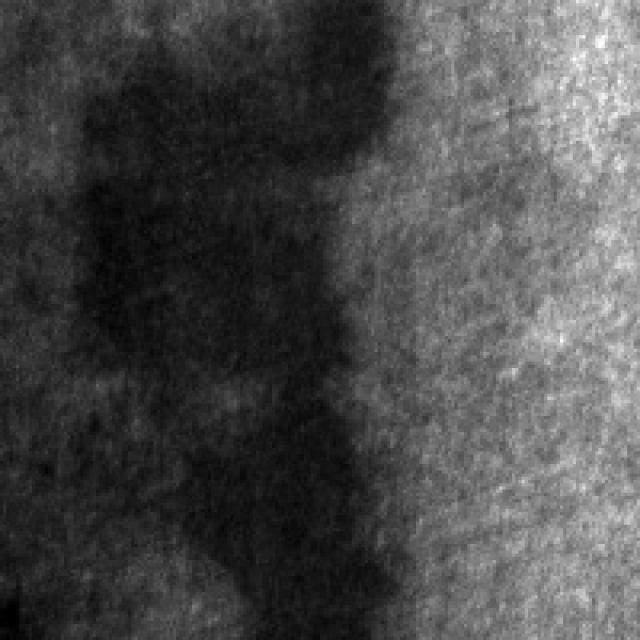patches: (90, 0, 387, 378), (179, 403, 387, 637)
